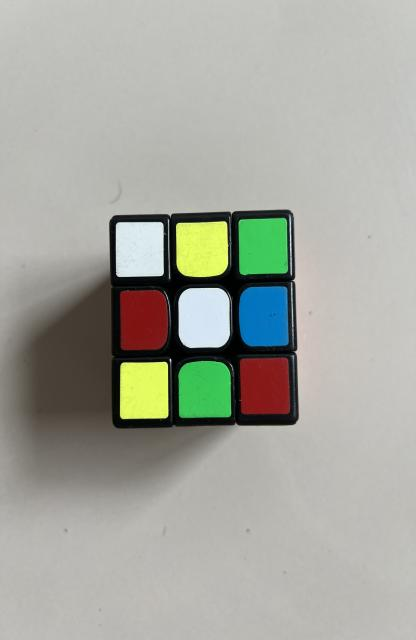Blue: (238, 286, 288, 346)
Green: (179, 361, 232, 419), (238, 218, 288, 275)
Red: (239, 358, 290, 415), (120, 290, 168, 350)
White: (179, 288, 230, 349), (116, 222, 164, 278)
Yellow: (176, 221, 229, 278), (120, 361, 169, 419)
